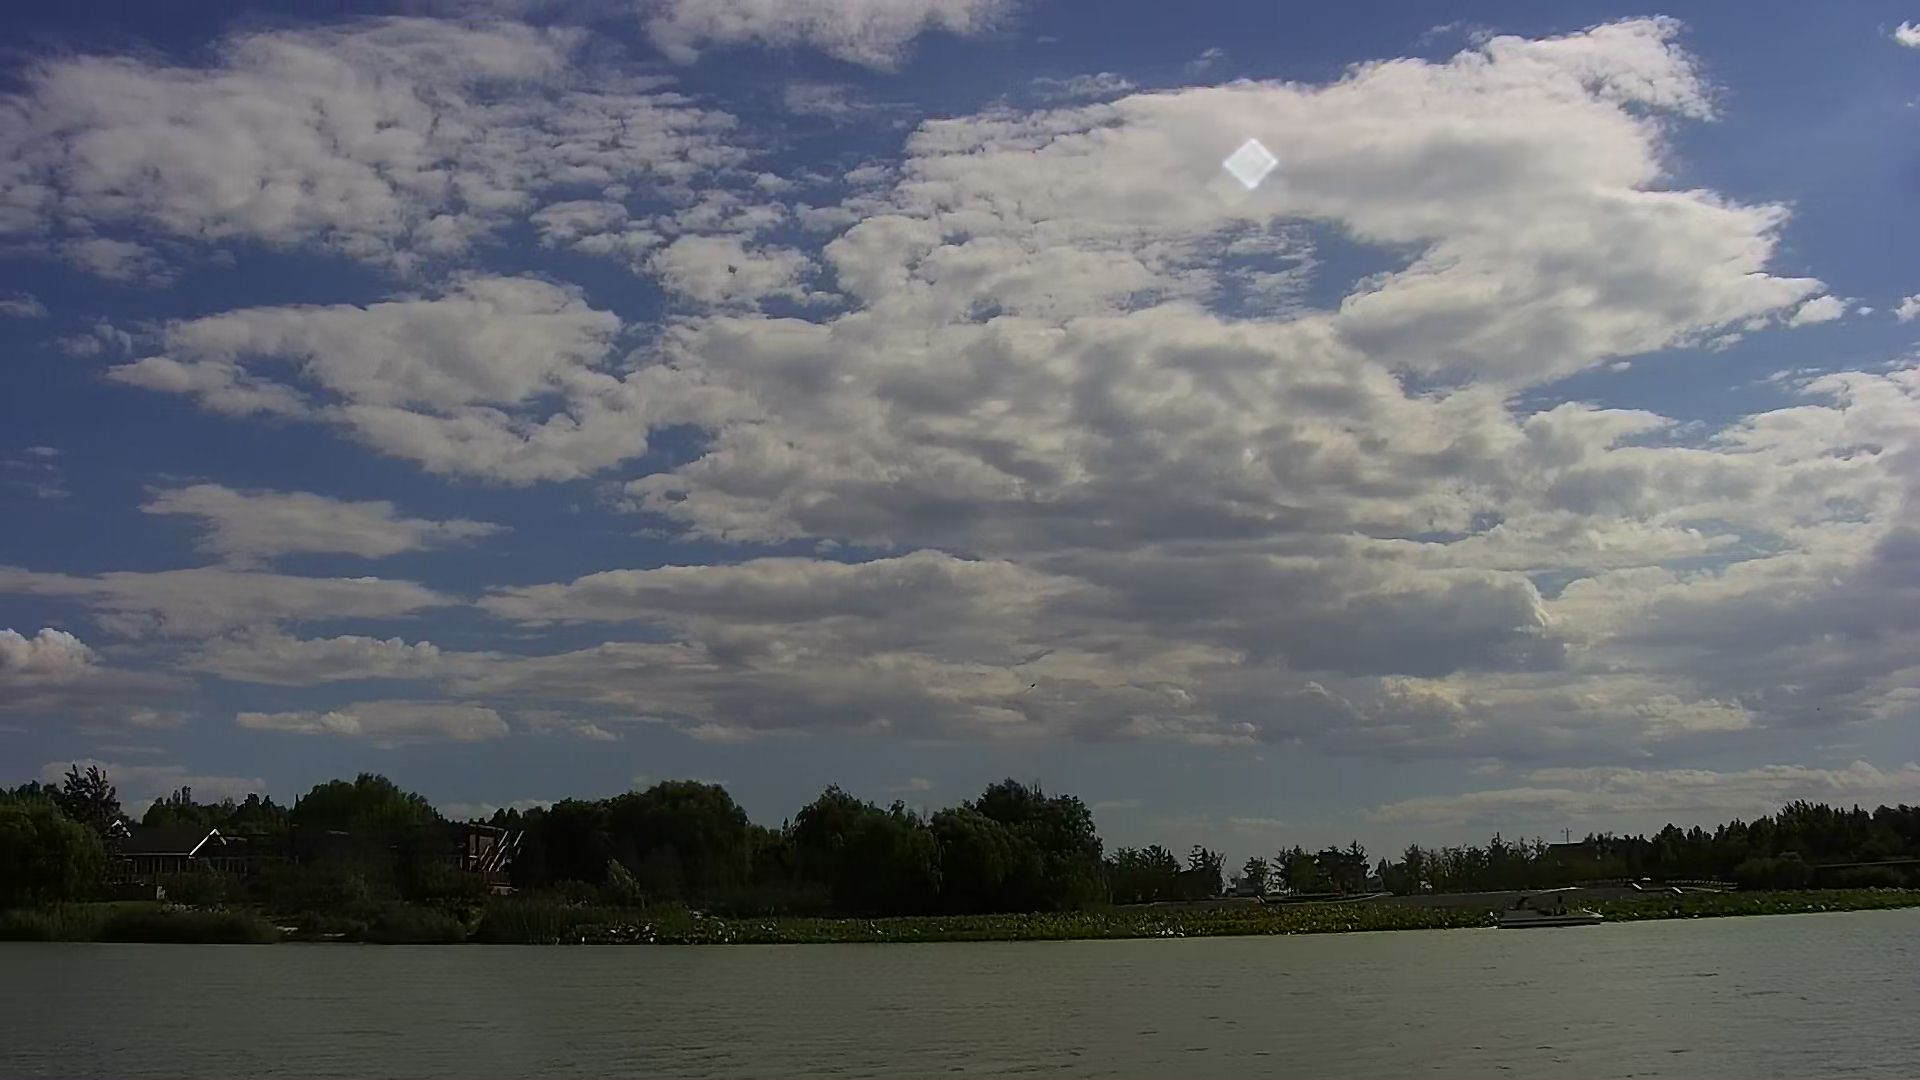boat: (1490, 880, 1611, 932)
